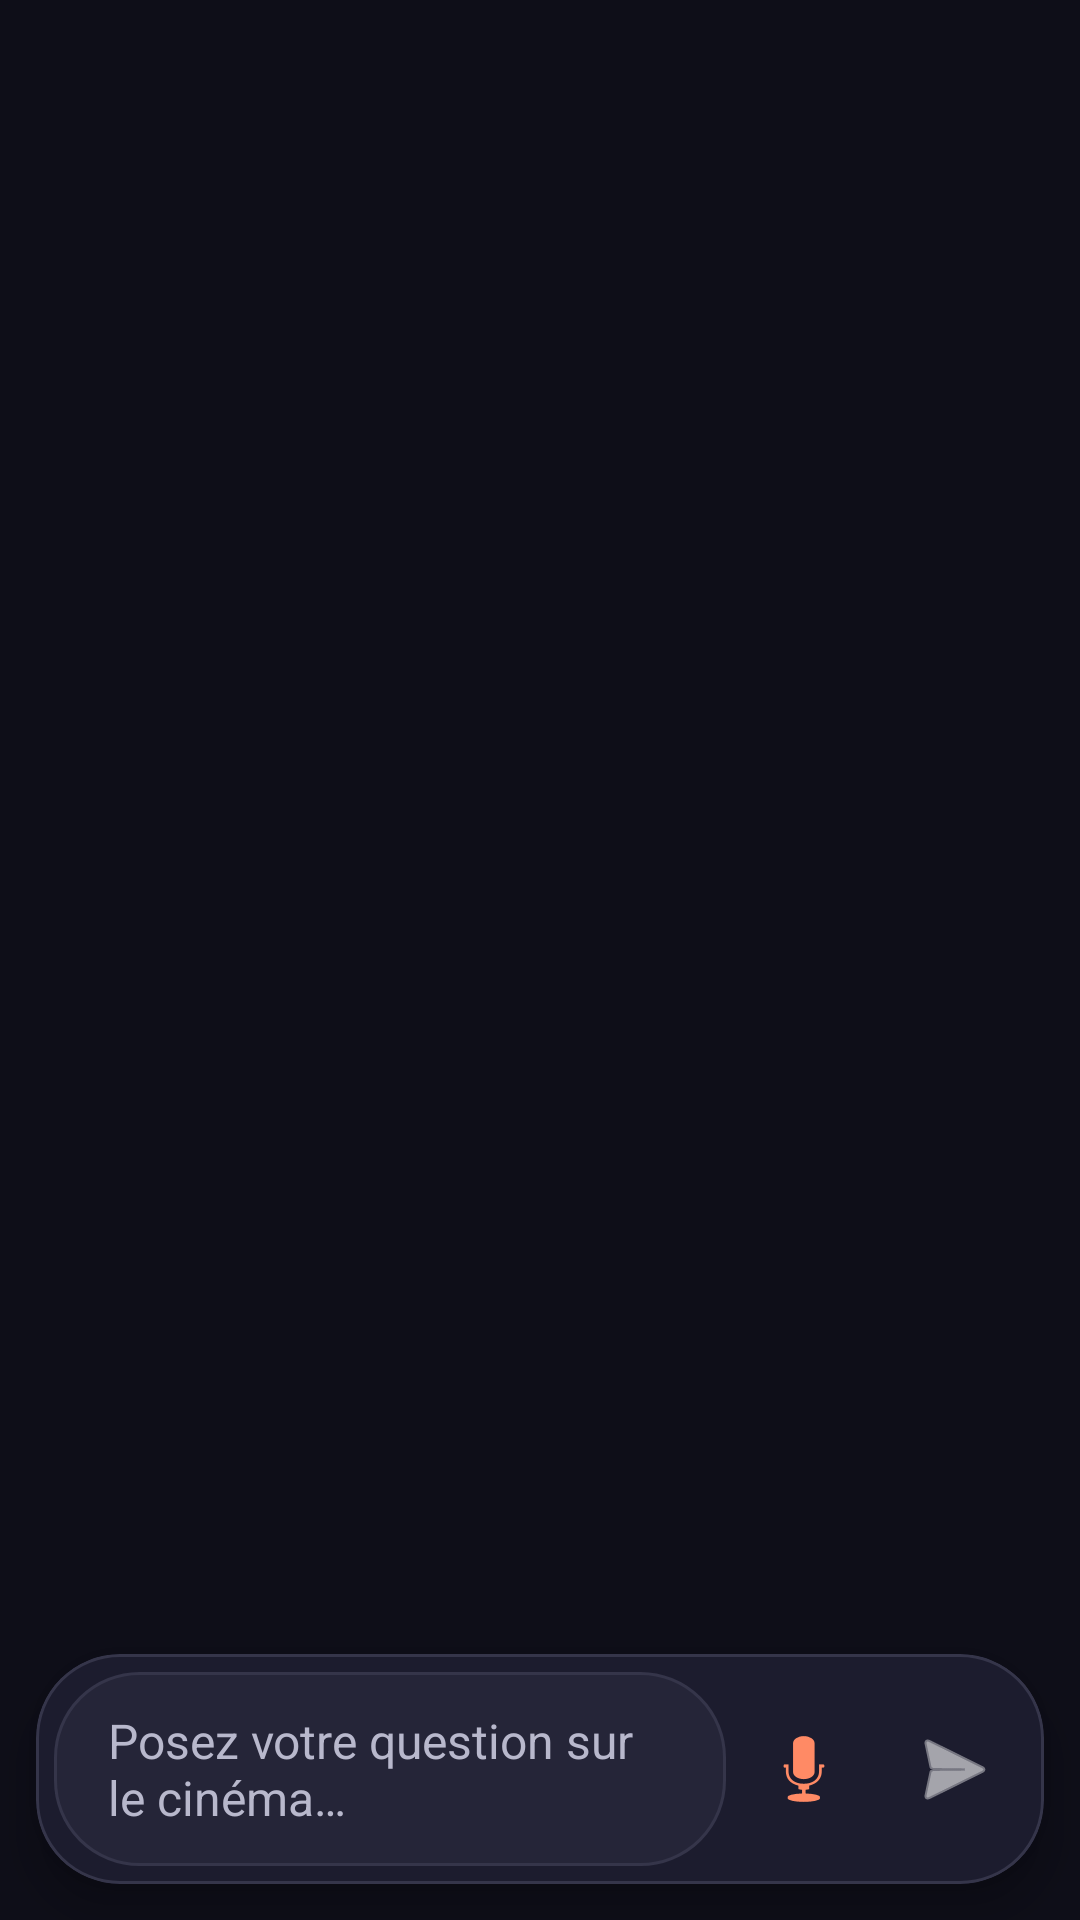

Locate icon controls on the screen. Image size 1080×1920, boxes as (x1, y1, x2, y2).
Envoyer: (924, 1739, 986, 1800)
Micro: (783, 1736, 825, 1802)
